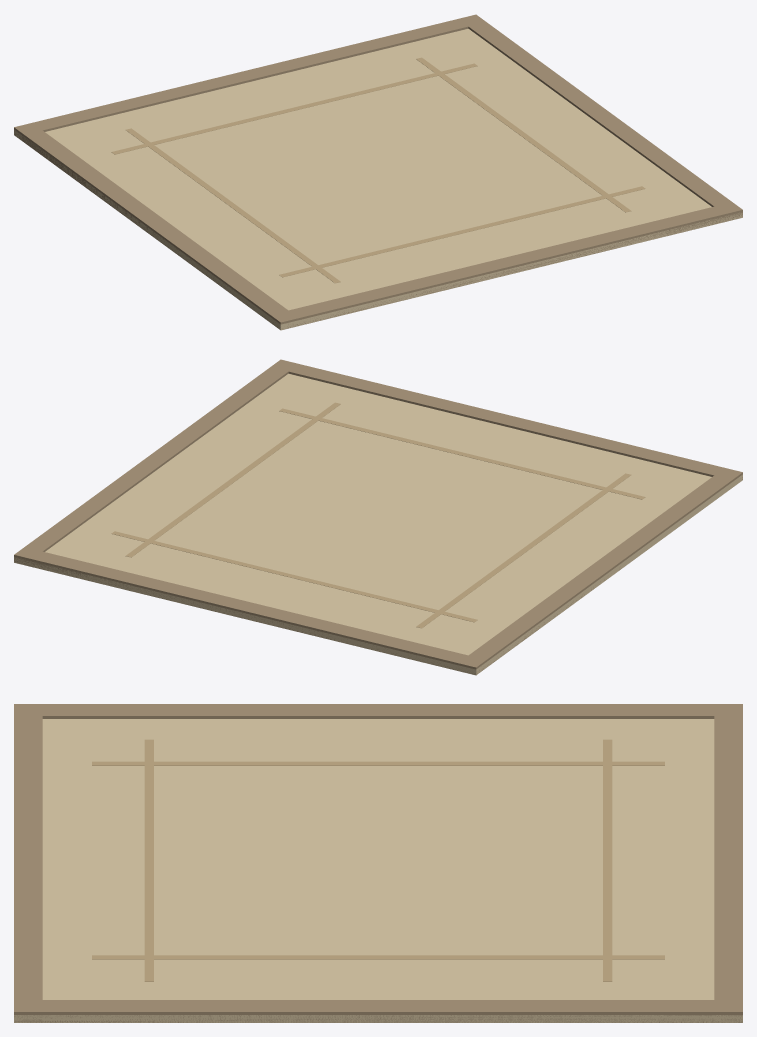
The model's file is slot_pad.glb.
The picture shows the model from 3 angles, top to bottom: view 1: azimuth 30°, elevation 25°; view 2: azimuth 150°, elevation 25°; view 3: azimuth 270°, elevation 25°; orthographic projection. The views are drawn at different scales.
Visible parts, largest first — view 1: SM_ENV_slot_pad; view 2: SM_ENV_slot_pad; view 3: SM_ENV_slot_pad.
Boxes of the visible parts, bbox=[...] form: SM_ENV_slot_pad: bbox=[14, 14, 742, 330]; SM_ENV_slot_pad: bbox=[14, 359, 742, 675]; SM_ENV_slot_pad: bbox=[14, 704, 742, 1022].
Bounding box in the file's own units: 14 × 0.23 × 14.
